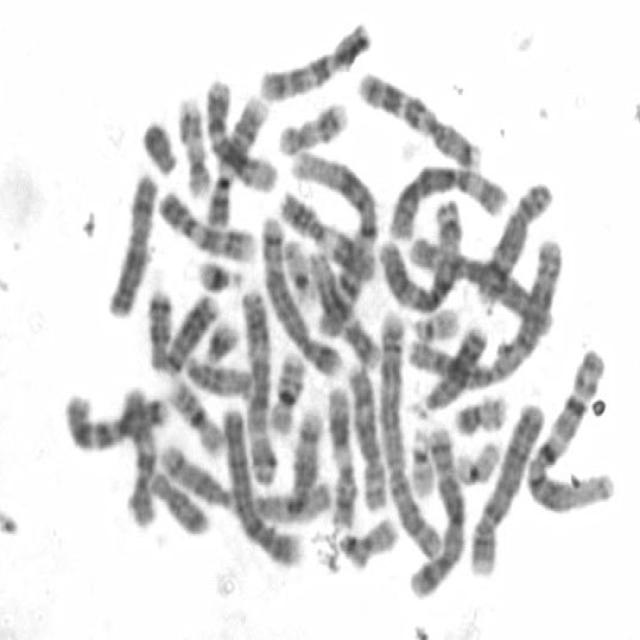A1: (284, 144, 381, 328), (522, 339, 618, 514)
A2: (400, 227, 563, 396), (374, 302, 444, 562)
A3: (373, 192, 465, 313), (235, 281, 279, 486)
B4: (465, 392, 550, 578), (216, 400, 305, 568)
B5: (255, 209, 343, 379), (404, 418, 469, 602)
C10: (254, 12, 375, 104), (114, 376, 159, 530)
C11: (273, 181, 380, 284), (320, 379, 358, 531)
C12: (303, 244, 382, 373), (202, 69, 281, 195)
C6: (403, 230, 558, 336), (384, 158, 512, 241)
C7: (353, 61, 483, 172), (61, 382, 171, 453)
C8: (472, 173, 557, 307), (341, 353, 389, 514)
C9: (198, 84, 271, 232), (150, 181, 258, 264)
D13: (406, 316, 490, 418), (160, 284, 223, 377)
D14: (157, 437, 234, 508), (285, 402, 324, 519)
D15: (253, 474, 335, 525), (180, 348, 256, 399)
E16: (162, 370, 226, 459), (264, 344, 308, 436)
E17: (273, 94, 352, 158), (172, 89, 215, 200)
E18: (142, 462, 212, 539), (142, 281, 176, 373)
F19: (277, 232, 319, 308), (450, 433, 502, 486)
F20: (336, 508, 400, 569), (449, 386, 510, 438)
G21: (198, 313, 242, 367), (191, 252, 246, 293)
G22: (405, 417, 436, 499), (409, 300, 463, 342)
X: (101, 166, 160, 319)
Y: (136, 112, 180, 178)
